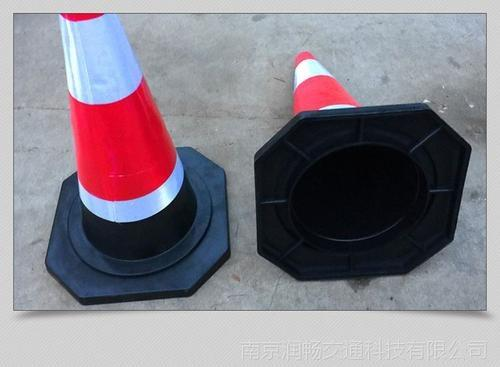cone_barrel: (45, 0, 202, 275), (285, 49, 358, 120)
